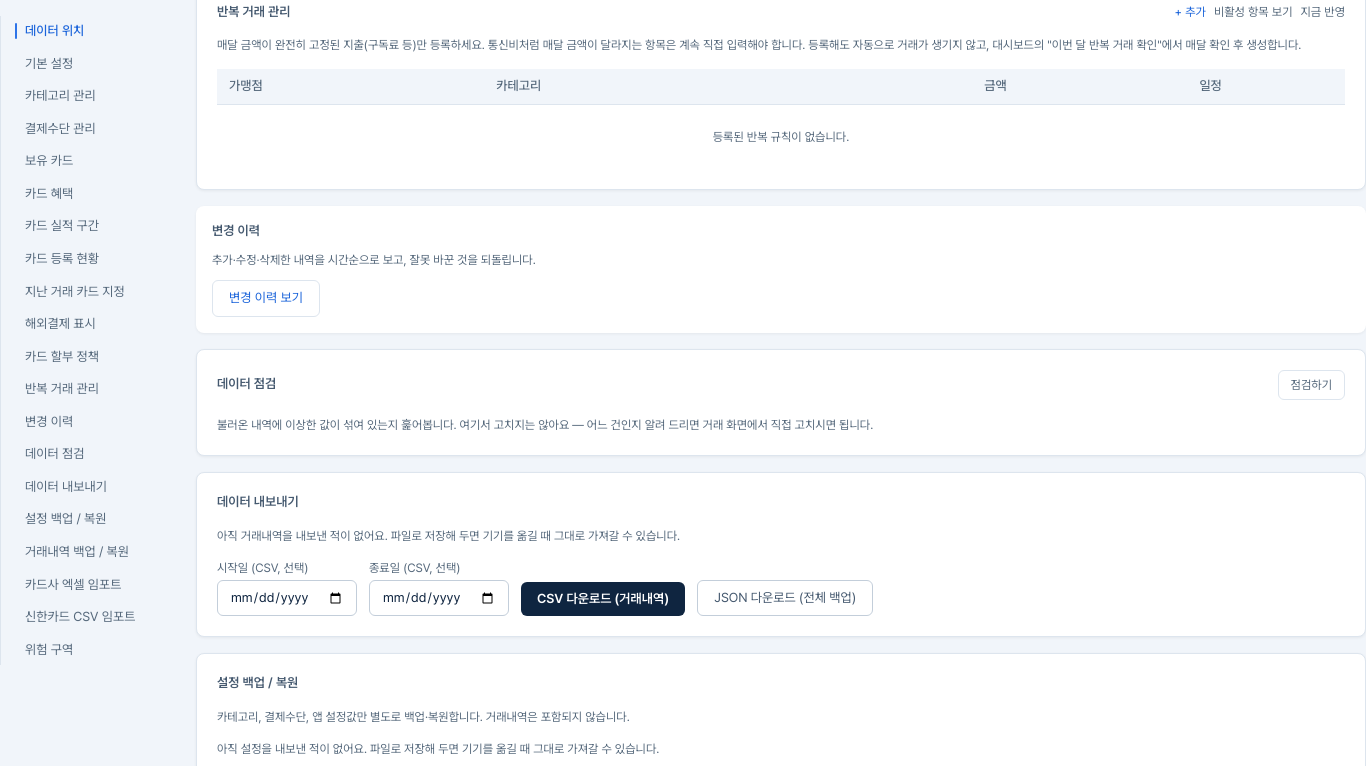
Scenario: 데이터 점검 절 › 걸린 항목만 보여주고 건수를 적는다
(page scrolled)
Click the button "점검하기" at (1311, 385), box [1278, 370, 1345, 400]
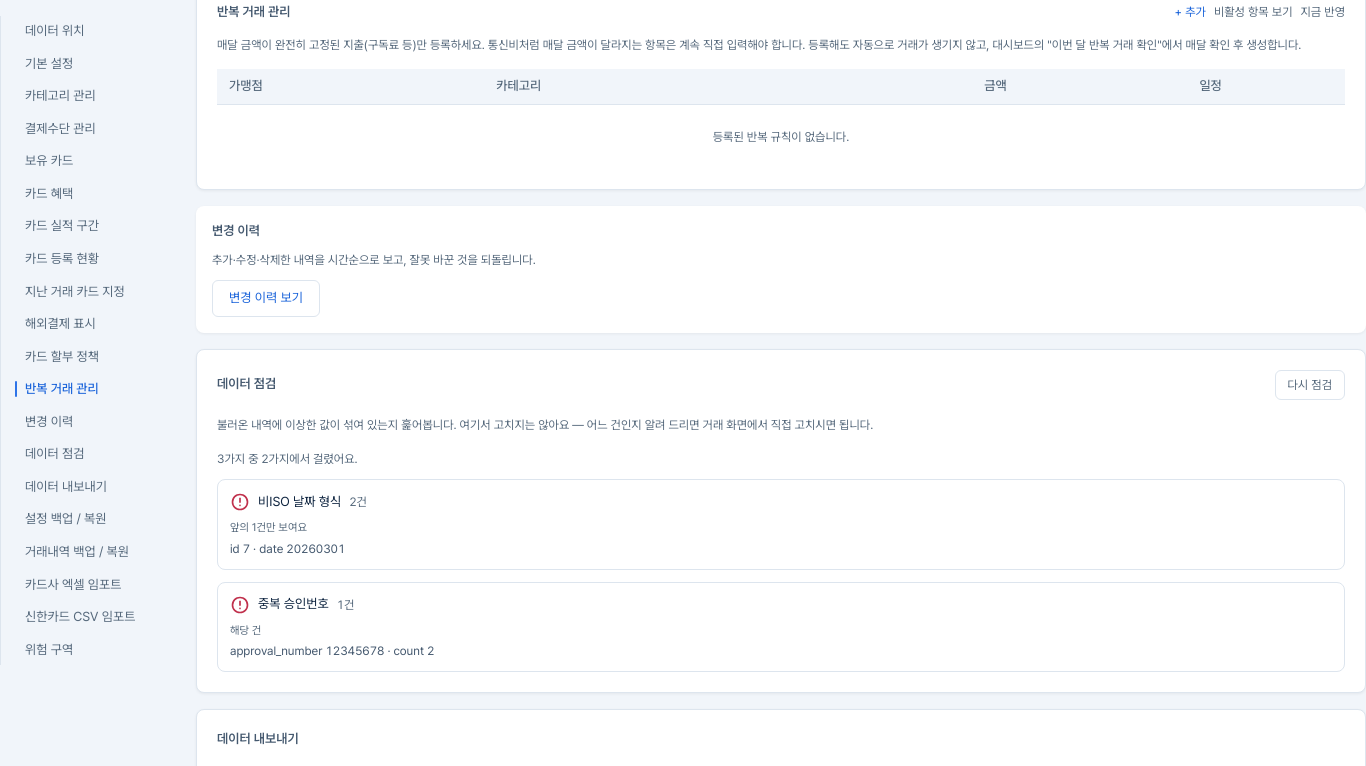
Expected: the text "비ISO 날짜 형식" is shown, [258, 494, 341, 509]
Expected: the text "중복 승인번호" is shown, [258, 596, 329, 612]
Expected: the text "3가지 중 2가지에서 걸렸어요." is shown, [217, 452, 358, 466]
